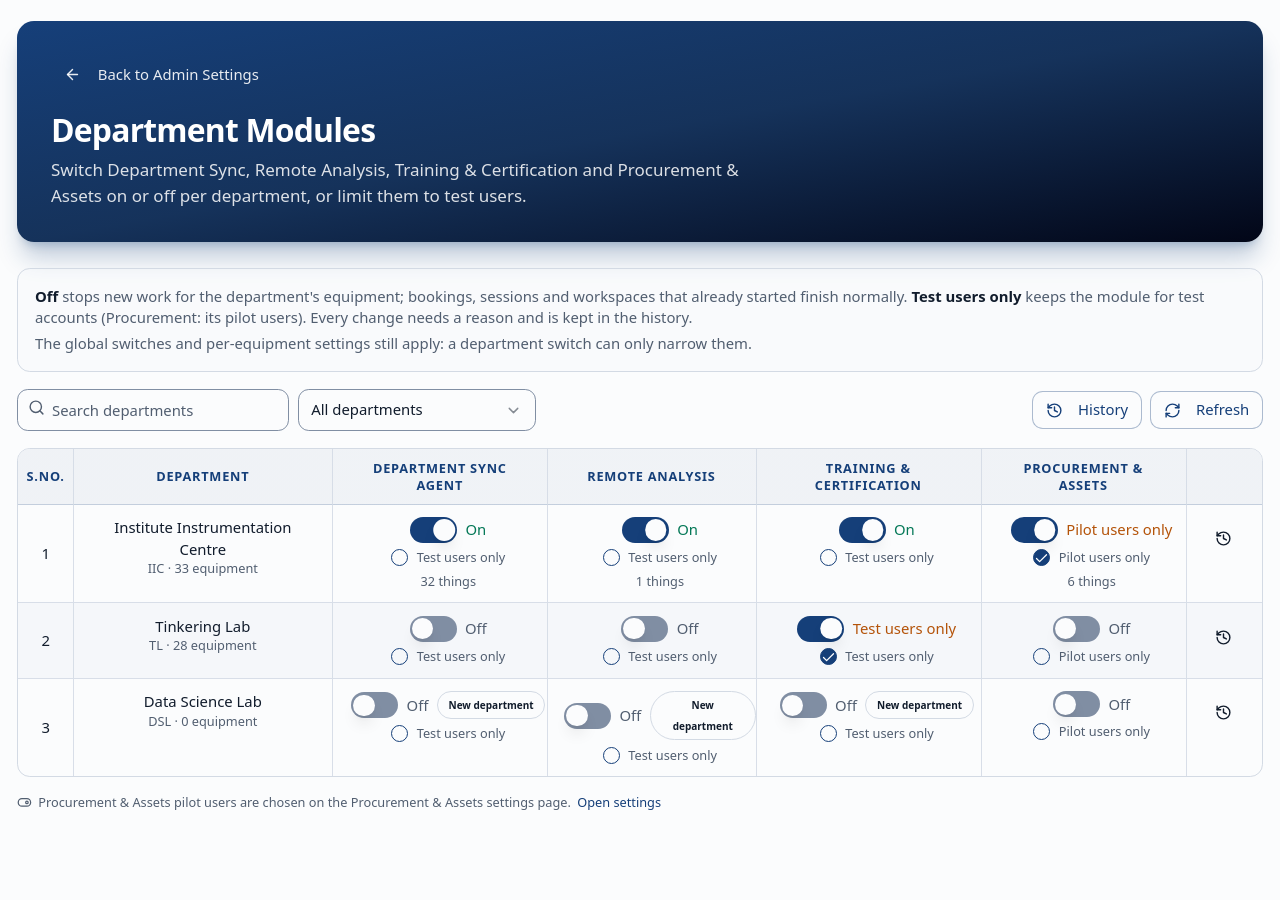
Test: Department Modules (Main Administrator) › asks for a reason before switching a module off and saves it
The width and height of the screenshot is (1280, 900).
Step 1. Click the switch named "Remote Analysis for Institute Instrumentation Centre" → (645, 530), box left=622, top=517, right=669, bottom=543
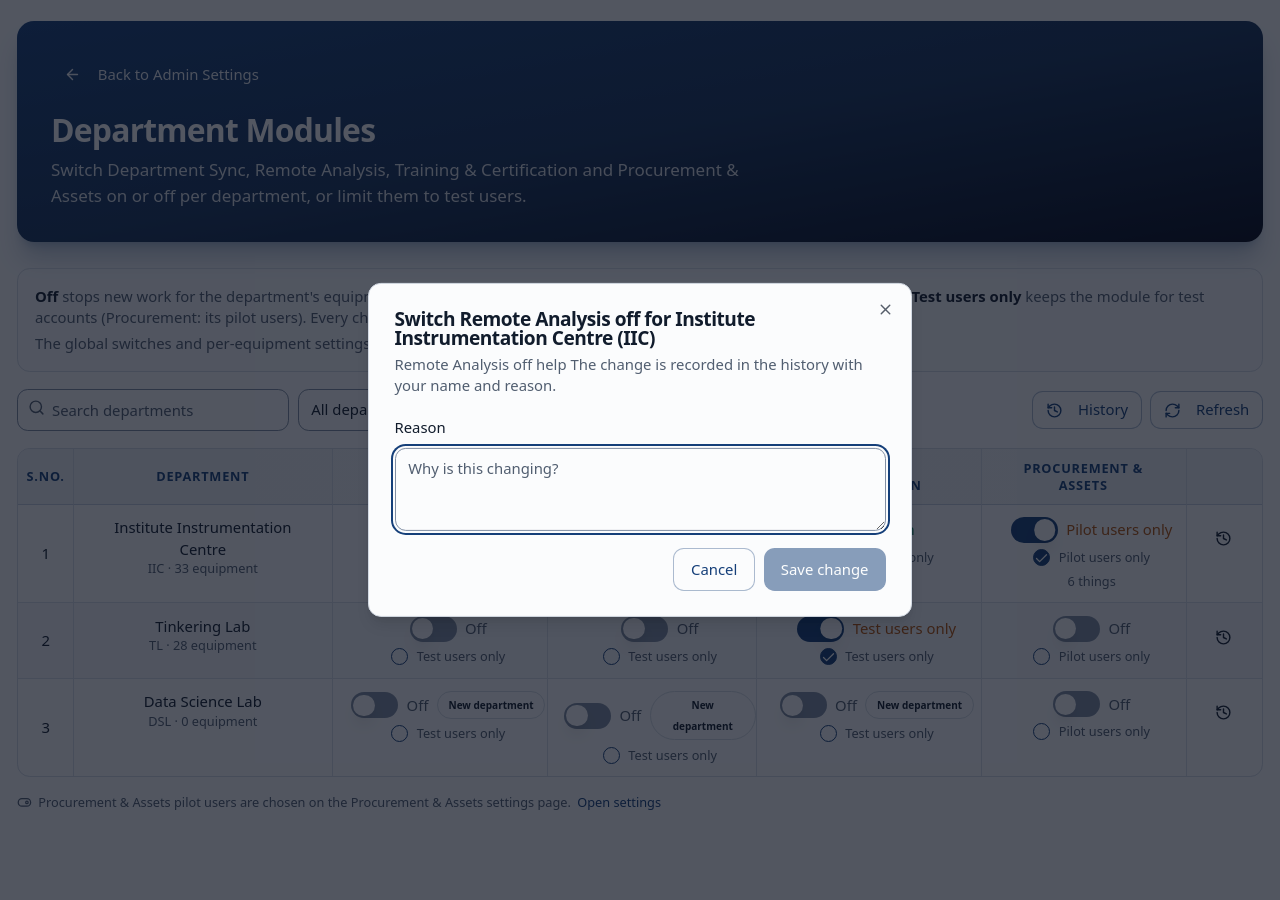
Check: the heading "Switch Remote Analysis off for Institute Instrumentation Centre (IIC)" is shown, box left=394, top=305, right=755, bottom=350
Check: the text "Remote Analysis off help" is shown, box left=394, top=354, right=570, bottom=374
Check: the button "Save change" is disabled, box left=764, top=548, right=886, bottom=591
Step 2. Type "Workstation moved to TL" into the text box labelled "Reason" → (640, 490), box left=394, top=448, right=886, bottom=531
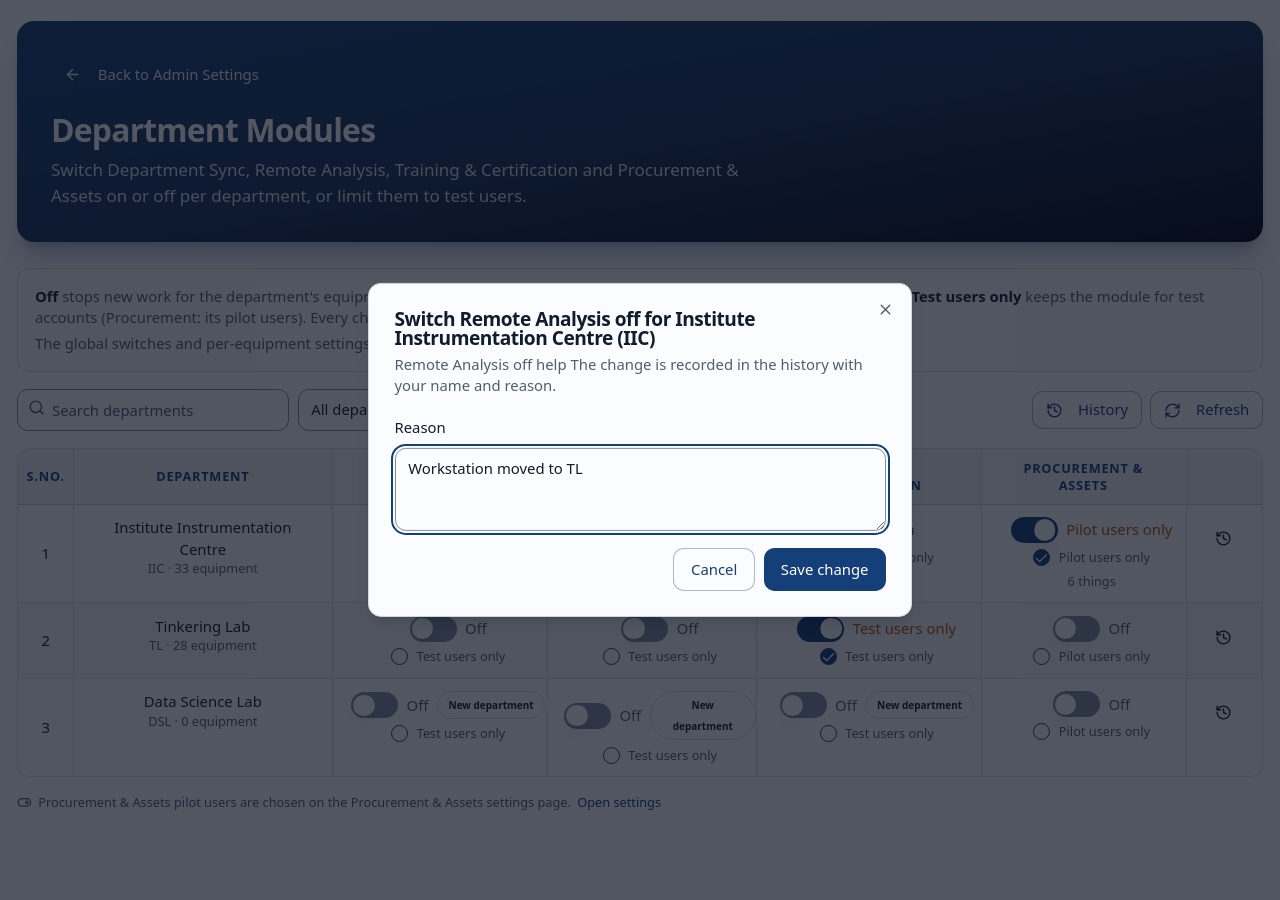
Check: the button "Save change" is enabled
Step 3. Click the button "Save change" → (825, 569), box left=764, top=548, right=886, bottom=591
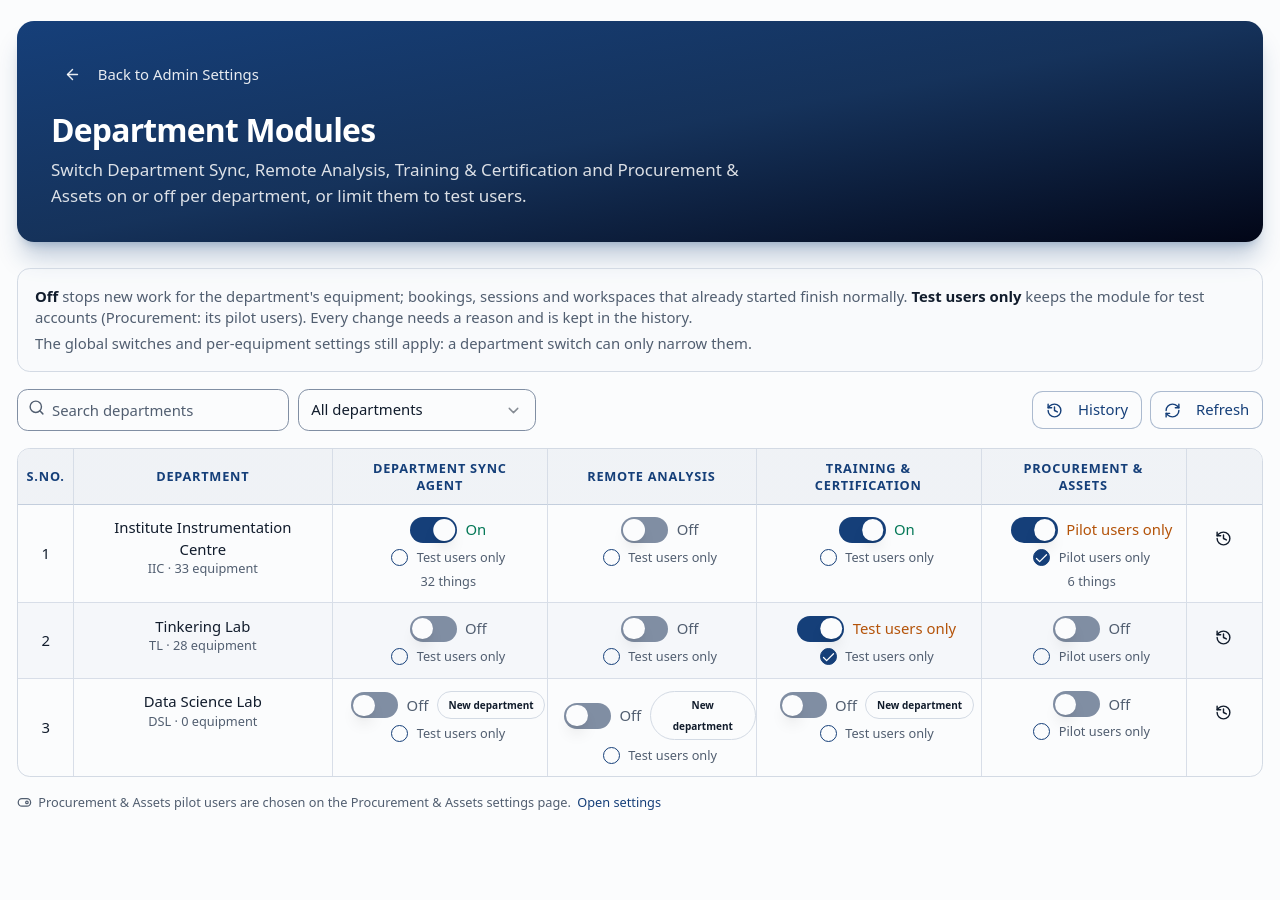
Check: the dialog is gone
